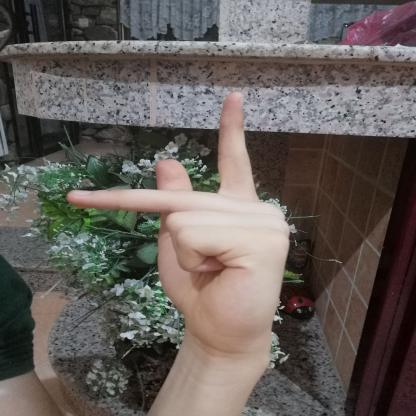DHAA: (51, 80, 314, 367)
